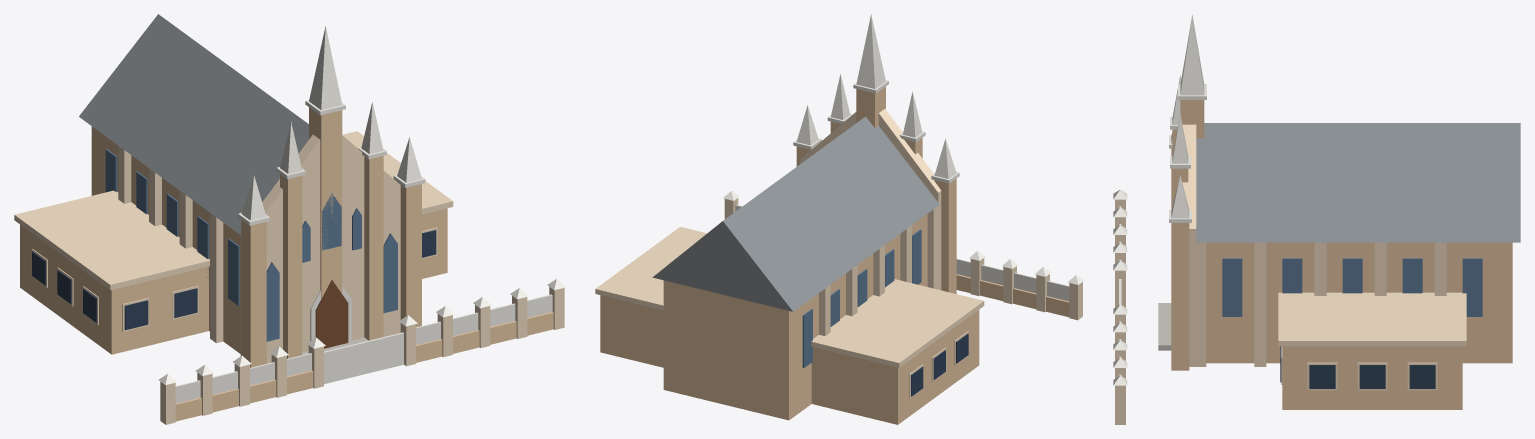
The model's file is LM_IglesiaNiCristo.glb.
The picture shows the model from 3 angles, left to right: view 1: azimuth 30°, elevation 25°; view 2: azimuth 150°, elevation 25°; view 3: azimuth 270°, elevation 25°; orthographic projection. The views are drawn at different scales.
Visible parts, largest first — view 1: LM_IglesiaNiCristo; view 2: LM_IglesiaNiCristo; view 3: LM_IglesiaNiCristo.
Boxes of the visible parts, x1,y1,x2,y2 form: LM_IglesiaNiCristo: (14, 14, 566, 424); LM_IglesiaNiCristo: (595, 14, 1084, 424); LM_IglesiaNiCristo: (1113, 15, 1520, 424).
Size of the model in its own units: 22.7 by 17.4 by 20.35.
